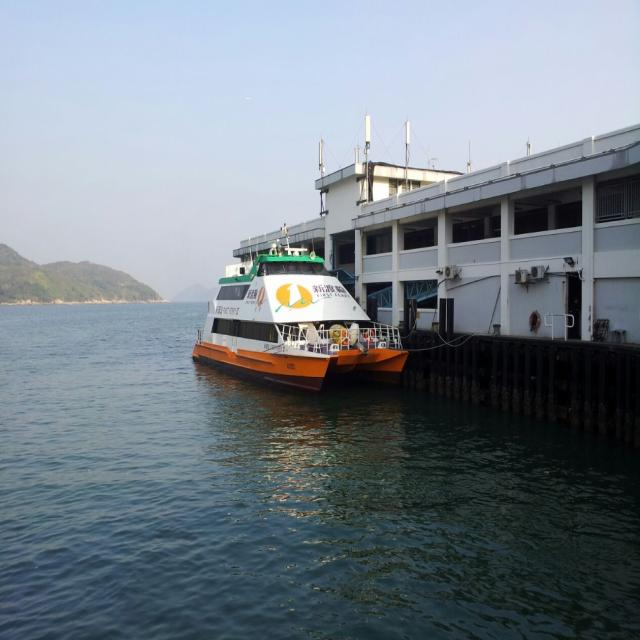houseboat: (196, 250, 394, 392)
